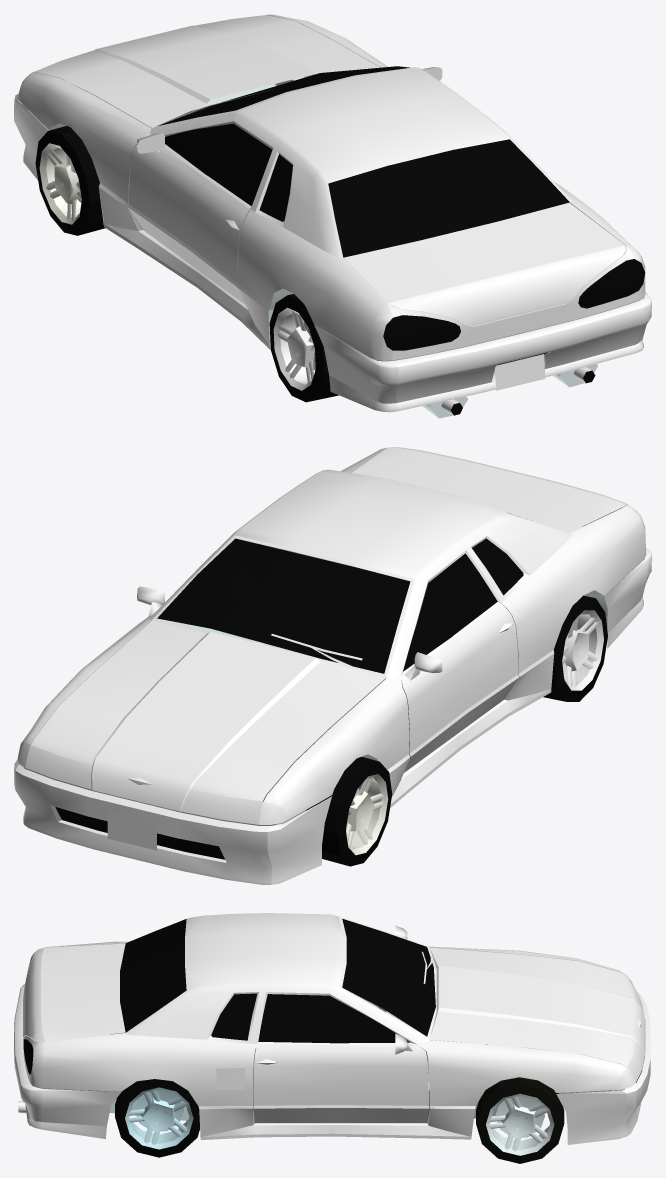
Rendered from elegy.glb.
The picture shows the model from 3 angles, top to bottom: view 1: azimuth 30°, elevation 25°; view 2: azimuth 150°, elevation 25°; view 3: azimuth 270°, elevation 25°; orthographic projection. The views are drawn at different scales.
Visible parts, largest first — view 1: chassis, boot_ok, bonnet_ok, door_lf_ok, bump_rear_ok, wheel.003, wheel.002, windscreen_dam, plate_rear_ok, bump_front_ok, exhaust_ok; view 2: chassis, bonnet_ok, windscreen_dam, bump_front_ok, door_lf_ok, boot_ok, wheel.003, wheel.002, bump_rear_ok, plate_front_ok; view 3: chassis, door_rf_ok, bonnet_ok, boot_ok, windscreen_dam, wheel, wheel.001, bump_rear_ok, bump_front_ok.
Part boxes in pixels (x1,y1,x2,y2): chassis: (17, 14, 645, 361); boot_ok: (344, 202, 625, 325); bonnet_ok: (34, 15, 379, 127); door_lf_ok: (128, 123, 272, 303); bump_rear_ok: (314, 292, 651, 412); wheel.003: (35, 126, 105, 235); wheel.002: (269, 294, 338, 402); windscreen_dam: (158, 66, 409, 125); plate_rear_ok: (495, 354, 545, 390); bump_front_ok: (14, 93, 48, 179); exhaust_ok: (422, 364, 597, 418); chassis: (17, 447, 646, 825); bonnet_ok: (31, 621, 385, 811); windscreen_dam: (157, 538, 410, 673); bump_front_ok: (14, 759, 331, 884); door_lf_ok: (401, 553, 518, 772); boot_ok: (351, 447, 625, 532); wheel.003: (306, 756, 392, 866); wheel.002: (543, 595, 607, 701); bump_rear_ok: (604, 548, 651, 648); plate_front_ok: (107, 812, 156, 850); chassis: (23, 913, 644, 1139); door_rf_ok: (253, 994, 429, 1122); bonnet_ok: (429, 947, 645, 1067); boot_ok: (23, 943, 125, 1041); windscreen_dam: (342, 919, 435, 1036); wheel: (476, 1077, 564, 1163); wheel.001: (115, 1079, 199, 1157); bump_rear_ok: (14, 984, 121, 1138); bump_front_ok: (556, 992, 650, 1144).
Size of what is drawn, in the model's own units: 2.23 by 1.41 by 4.97.
